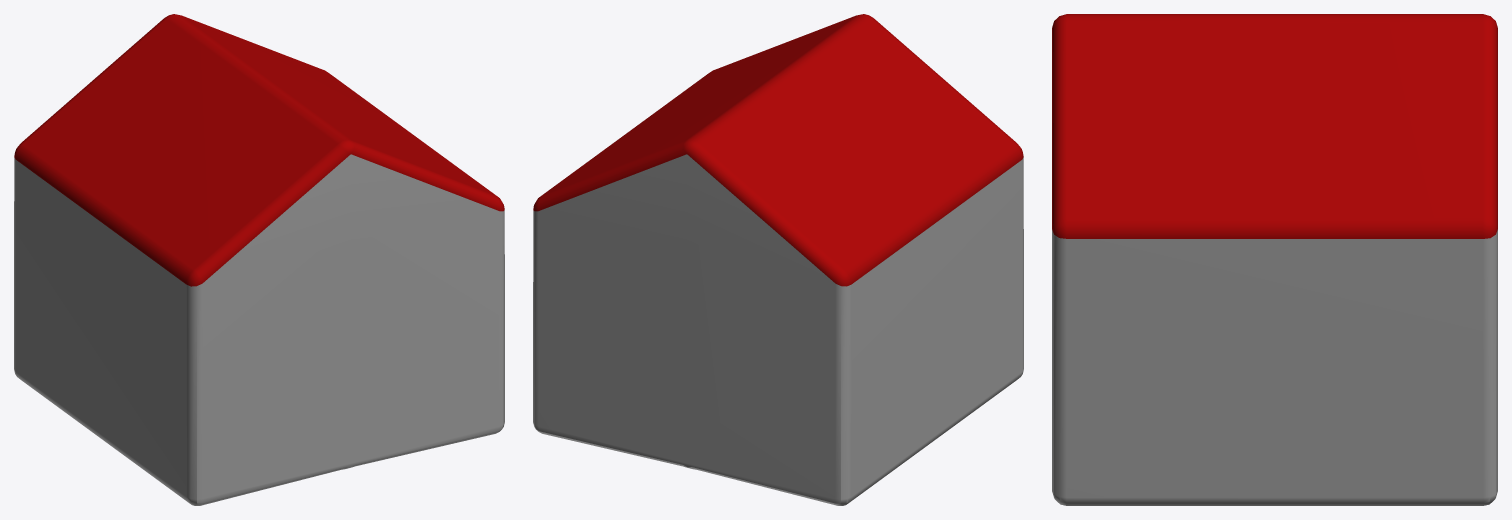
The model's file is House2.fbx.
3 views of the same model, side by side, from view 1: azimuth 30°, elevation 25°; view 2: azimuth 150°, elevation 25°; view 3: azimuth 270°, elevation 25° (orthographic). The views are drawn at different scales.
Parts seen in each view (by area): view 1: House2_Prefab; view 2: House2_Prefab; view 3: House2_Prefab.
Part boxes in pixels (x1,y1,x2,y2): House2_Prefab: (14,14,504,505); House2_Prefab: (533,14,1023,505); House2_Prefab: (1052,14,1497,505).
Size of the model in its own units: 0.0334 by 0.0331 by 0.0334.
